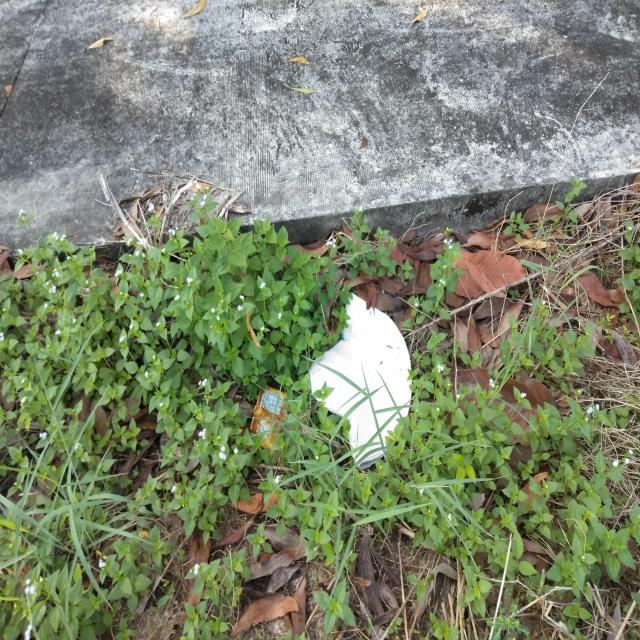litter: (307, 293, 412, 469), (250, 384, 290, 455)
